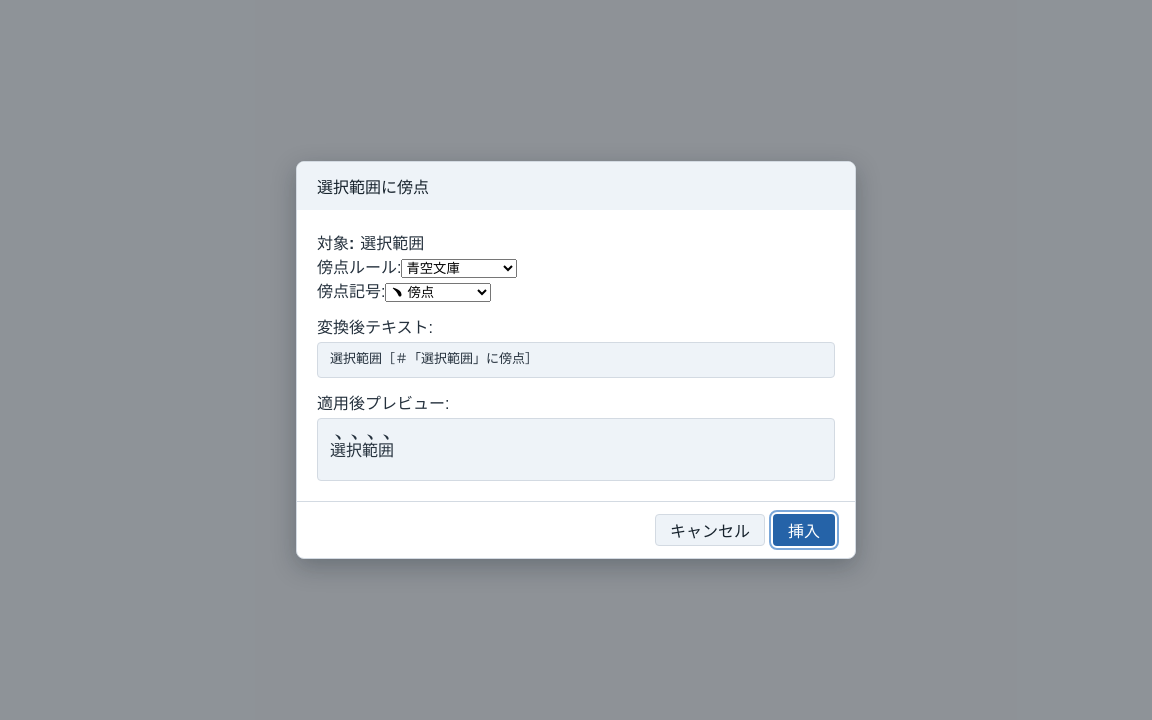
Test case: EmphasisMarkDialog › updates preview when changing rule to kakuyomu
Select "カクヨム" in the dropdown labelled "傍点ルール:": point(460, 268) [402, 259, 518, 278]
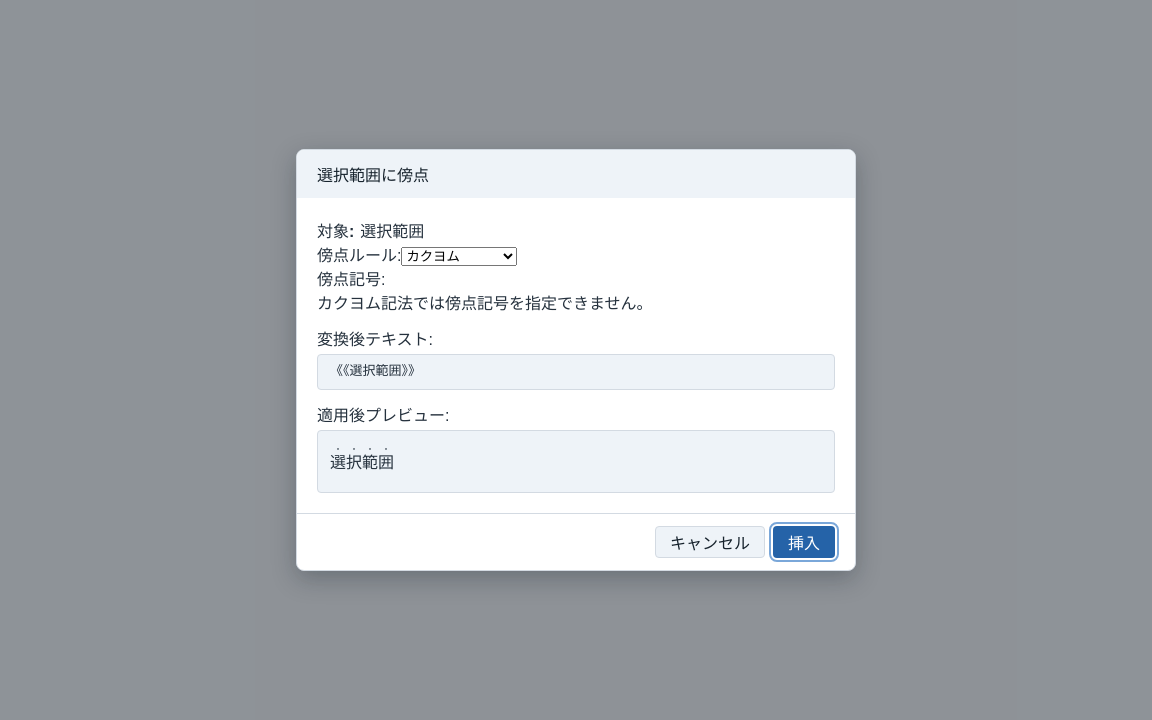
Check: the text with class "emphasisMarkRenderedPreviewText" reads "選択範囲", box [330, 454, 394, 471]
Check: the text "《《選択範囲》》" is shown, box [317, 354, 835, 390]
Check: the text "カクヨム記法では傍点記号を指定できません。" is shown, box [317, 295, 652, 312]
